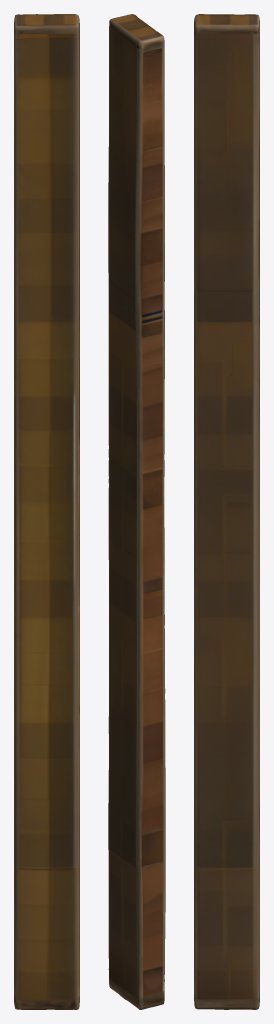
Rendered from Model_Cajado.fbx.
3 renders of one model, left to right at view 1: azimuth 90°, elevation 25°; view 2: azimuth 210°, elevation 25°; view 3: azimuth 270°, elevation 25°, orthographic.
Parts seen in each view (by area): view 1: Mesh1.0; view 2: Mesh1.0; view 3: Mesh1.0.
Boxes of the visible parts, box(x1,y1,x2,y2) form: Mesh1.0: box(14, 14, 79, 1009); Mesh1.0: box(108, 14, 165, 1009); Mesh1.0: box(194, 14, 259, 1009).
Size of the model in its own units: 6.41 by 201 by 12.16.
Materials: 1 (1 with a texture image).
